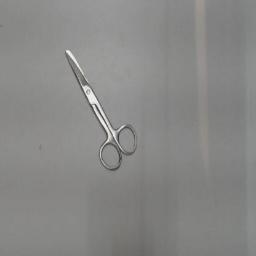Dressing Scissors: (61, 42, 141, 176)
